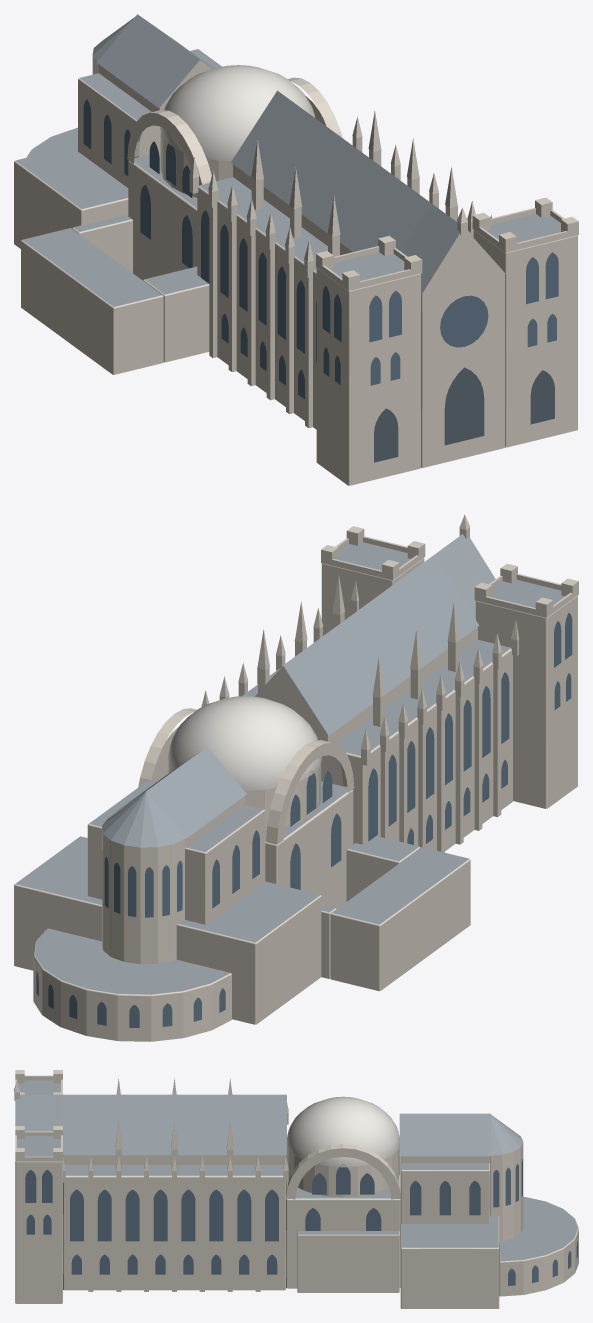
The model's file is nyc-st-john-the-divine.glb.
3 renders of one model, top to bottom at view 1: azimuth 30°, elevation 25°; view 2: azimuth 150°, elevation 25°; view 3: azimuth 270°, elevation 25°, orthographic. The views are drawn at different scales.
Parts seen in each view (by area): view 1: Cathedral of St. John the Divine; view 2: Cathedral of St. John the Divine; view 3: Cathedral of St. John the Divine.
Part boxes in pixels (left/top/right/bottom): Cathedral of St. John the Divine: left=14, top=14, right=578, bottom=485; Cathedral of St. John the Divine: left=14, top=514, right=578, bottom=1041; Cathedral of St. John the Divine: left=14, top=1070, right=578, bottom=1308.
Size of the model in its own units: 81.1 by 63 by 177.
